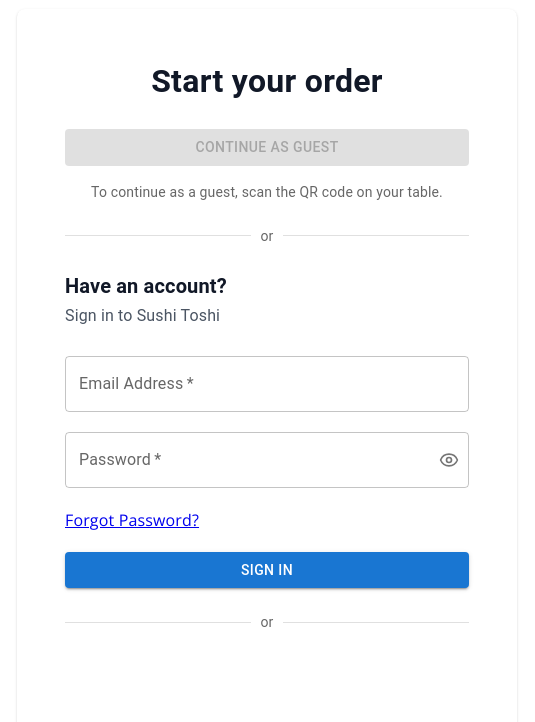
Scenario: LoginForm › Form Submission › shows a loading spinner and disables the button while submitting
Type "test@example.com" into the field labelled "Email Address *" at (267, 384), box [65,356,469,412]
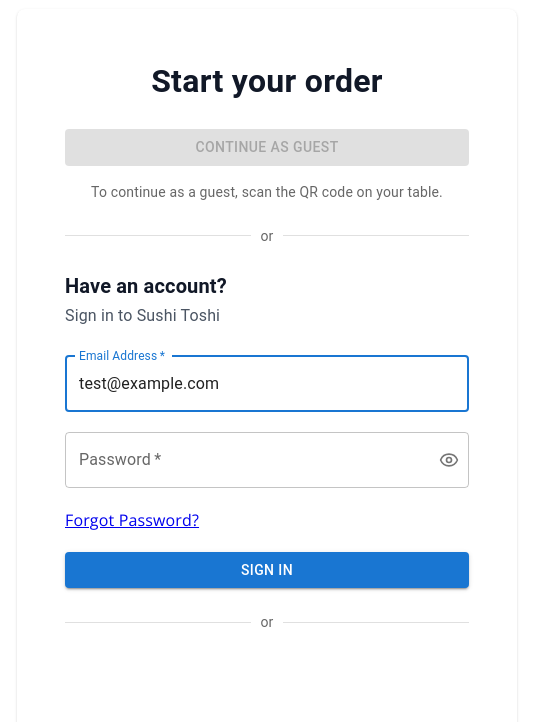
Type "password123" into the password field labelled "Password *" at (244, 460), box [65,432,423,488]
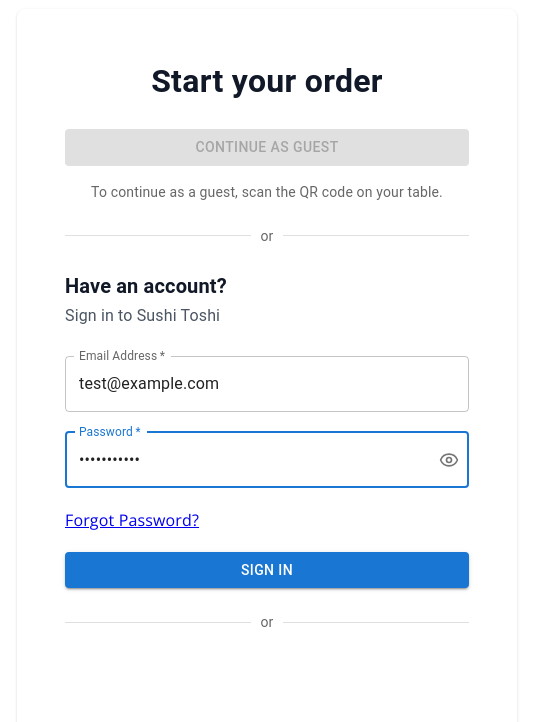
Click the button "Sign In" at (267, 570), box [65,552,469,588]
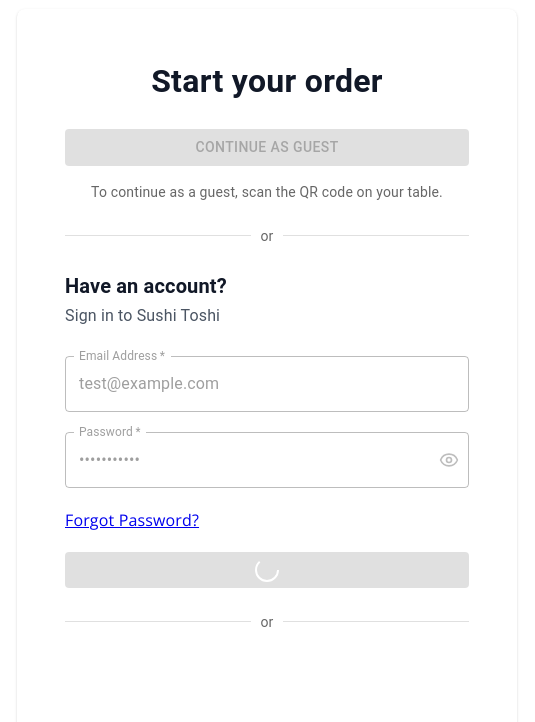
Expected: the progress indicator is shown, [255,558,279,582]
Expected: the button named "Sign In" is disabled, [65,552,469,588]
